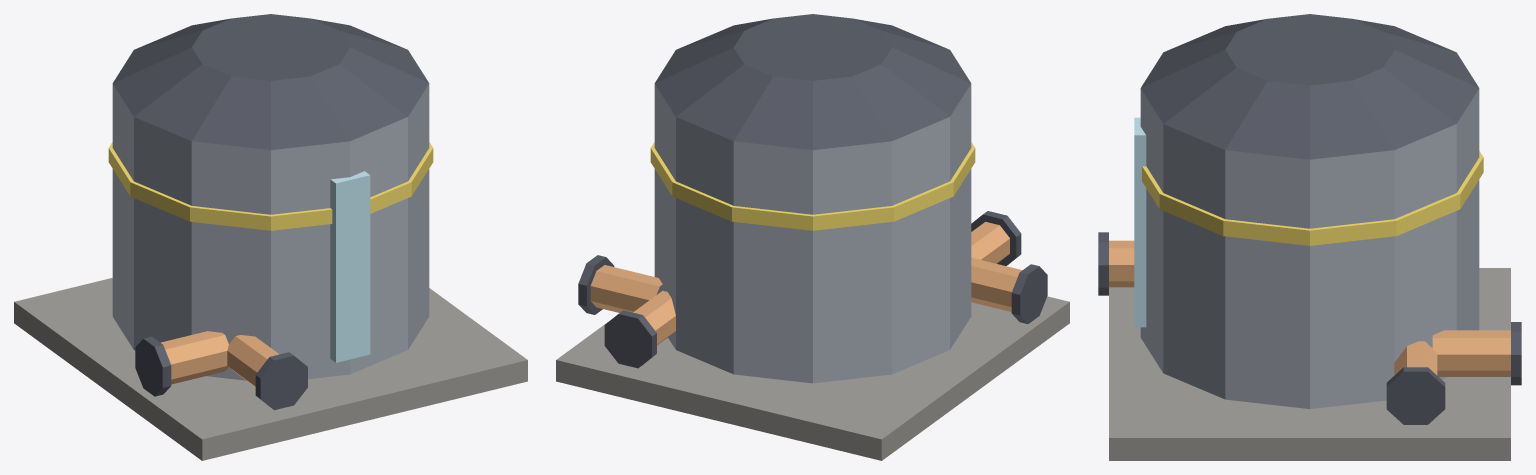
File: tanque_sem_textura.glb
The picture shows the model from 3 angles, left to right: view 1: azimuth 30°, elevation 25°; view 2: azimuth 150°, elevation 25°; view 3: azimuth 270°, elevation 25°; orthographic projection. The views are drawn at different scales.
Visible parts, largest first — view 1: tanque; view 2: tanque; view 3: tanque.
Part boxes in pixels (x1,y1,x2,y2): tanque: [14, 14, 527, 460]; tanque: [556, 14, 1069, 460]; tanque: [1098, 14, 1521, 460].
Size of the model in its own units: 2 by 1.7 by 2.
